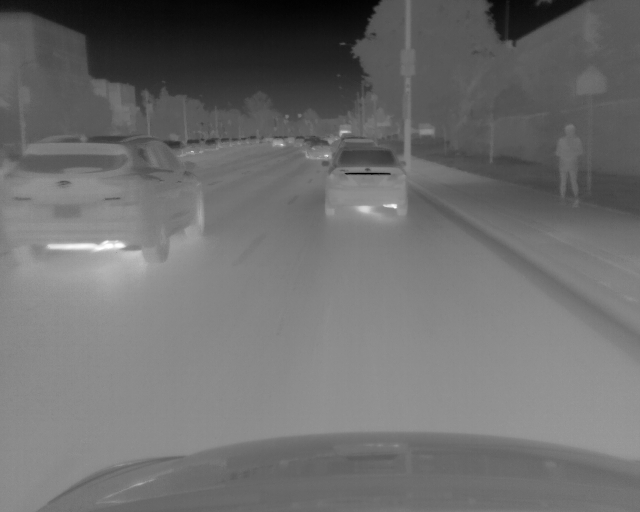car: (1, 133, 206, 268), (324, 145, 410, 218), (334, 136, 379, 150), (304, 141, 330, 160), (164, 140, 187, 158), (301, 136, 320, 148), (186, 139, 202, 153), (202, 138, 217, 150), (217, 138, 230, 149), (271, 136, 284, 147), (292, 135, 303, 147), (230, 137, 239, 146), (238, 136, 247, 144), (248, 135, 256, 144)
people: (554, 124, 584, 208)
